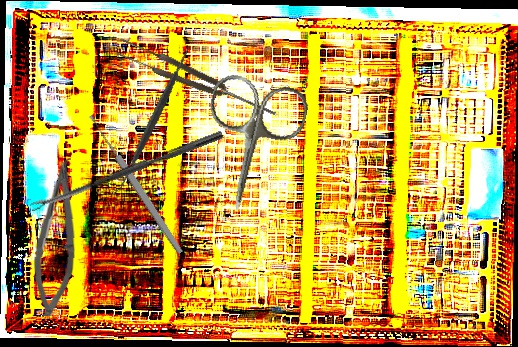Iris Scissors: (188, 70, 312, 222)
Micro Scissor: (31, 158, 80, 318)
Spatula Surgical: (80, 43, 229, 193)
Surgical Spoon: (29, 129, 224, 212), (87, 112, 185, 256)
Tissue Forceps: (114, 35, 281, 126)
